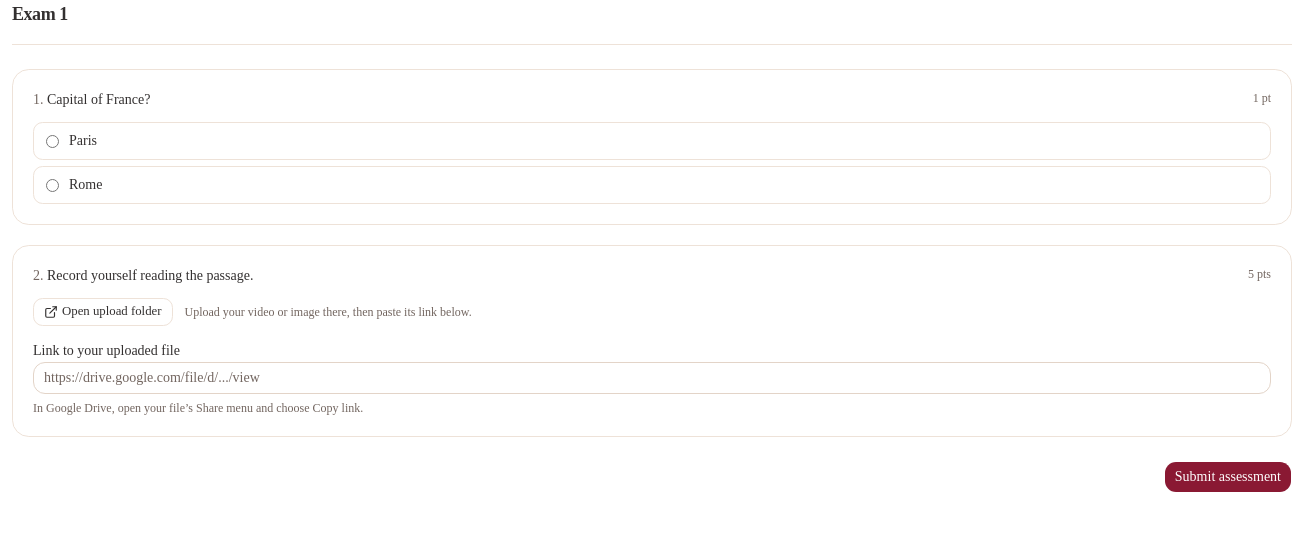
Test: AttemptForm with a file upload question › keeps every answer when the server refuses the submit
The width and height of the screenshot is (1304, 553).
Click the radio button labelled "Paris" at (52, 141), box [46,134,59,148]
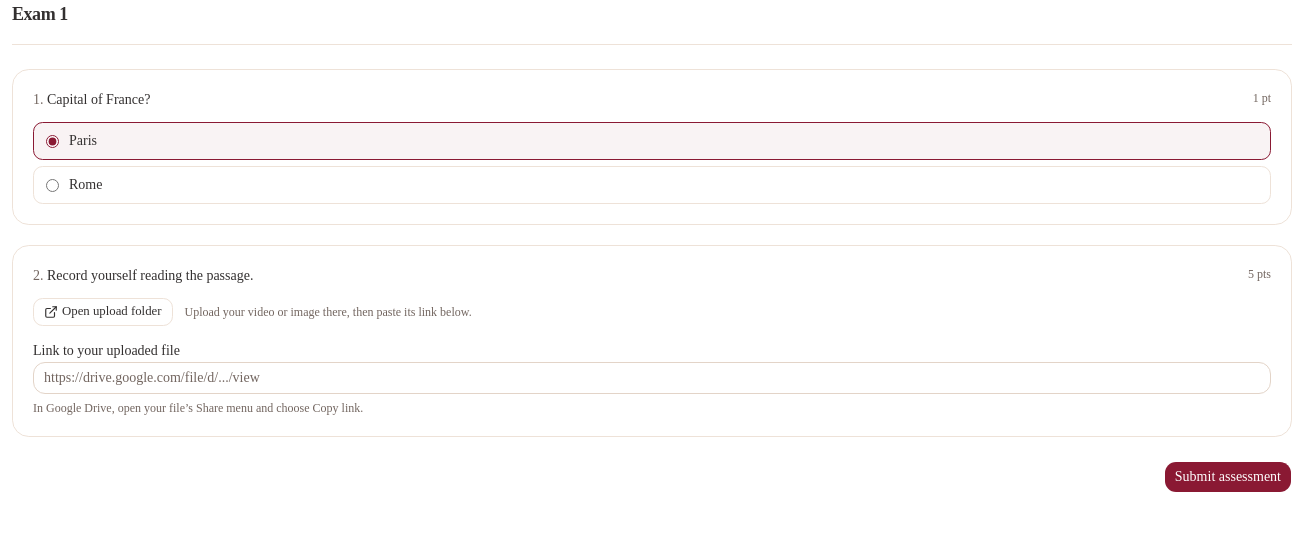
Type "my-video.mp4" into the field labelled "Link to your uploaded file" at (652, 378), box [33,362,1271,394]
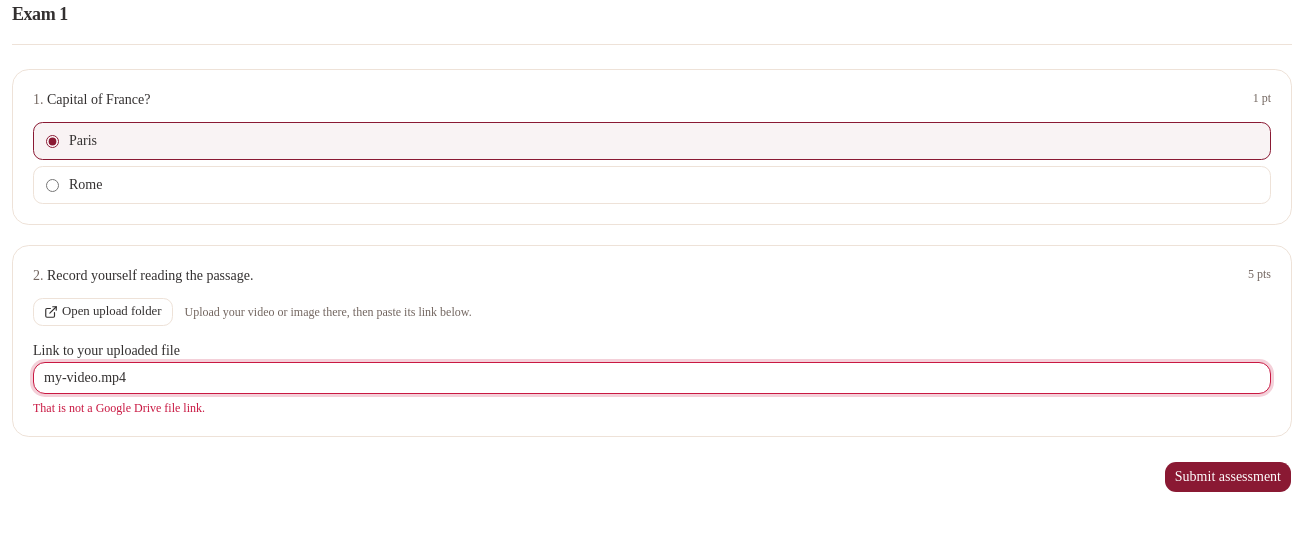
Click the button "Submit assessment" at (1228, 477), box [1164,461,1292,493]
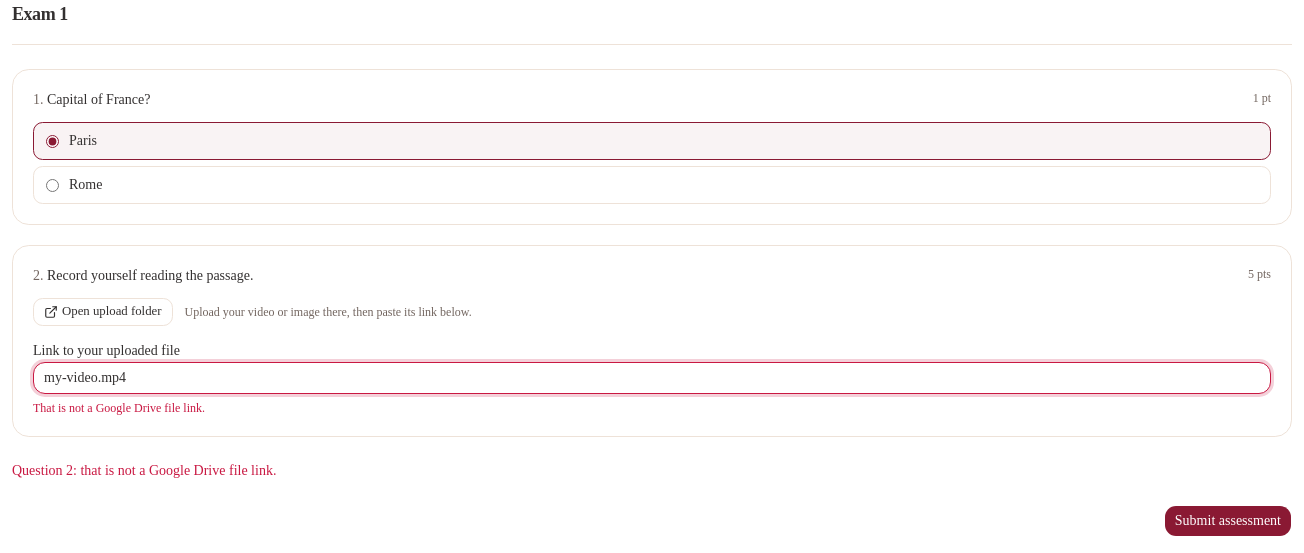
Expected: the text "Paris" is shown, [69,131,97,151]
Result: the radio button labelled "Paris" is checked at [46,134,59,148]
Result: the text "Question 2: that is not a Google Drive file link." is shown at [12,463,276,478]
